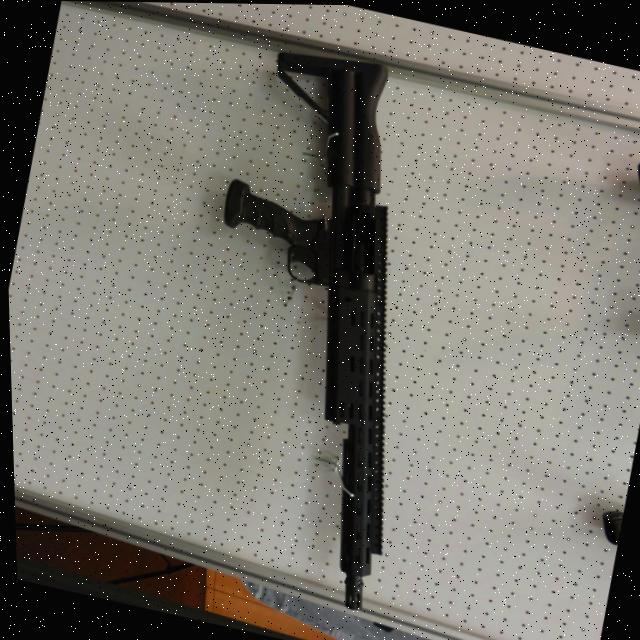firearm: (138, 31, 483, 615), (554, 148, 640, 545)
